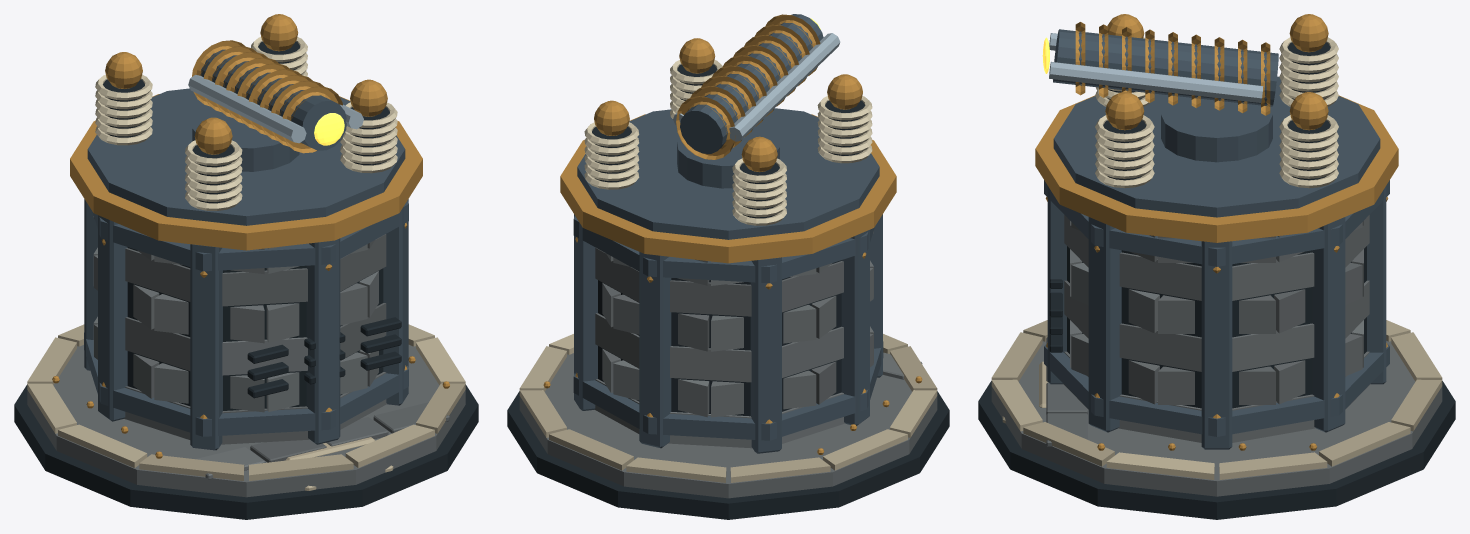
File: lightning__canhao__L05.glb
3 views of the same model, side by side, from view 1: azimuth 30°, elevation 25°; view 2: azimuth 150°, elevation 25°; view 3: azimuth 270°, elevation 25° (orthographic). The views are drawn at different scales.
Visible parts, largest first — view 1: structure, weapon; view 2: structure, weapon; view 3: structure, weapon.
Part boxes in pixels (<box>): structure: <box>14,14,478,519</box>; weapon: <box>188,40,363,171</box>; structure: <box>507,38,949,519</box>; weapon: <box>673,14,840,188</box>; structure: <box>978,14,1455,519</box>; weapon: <box>1042,22,1278,162</box>.
Bounding box in the file's own units: 0.8624 × 0.7855 × 0.8624.
